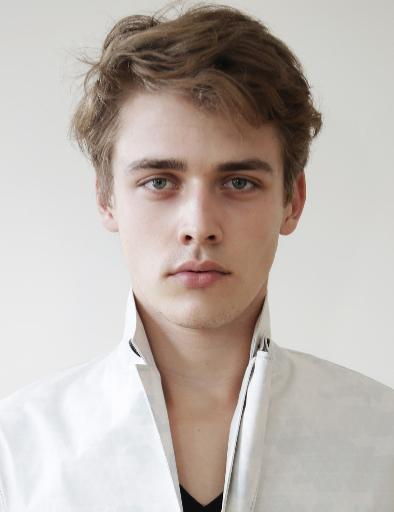left_eye: (220, 176, 264, 196)
left_lip_corner: (224, 268, 238, 281)
right_eye: (136, 174, 181, 195)
right_lip_corner: (162, 269, 176, 287)
